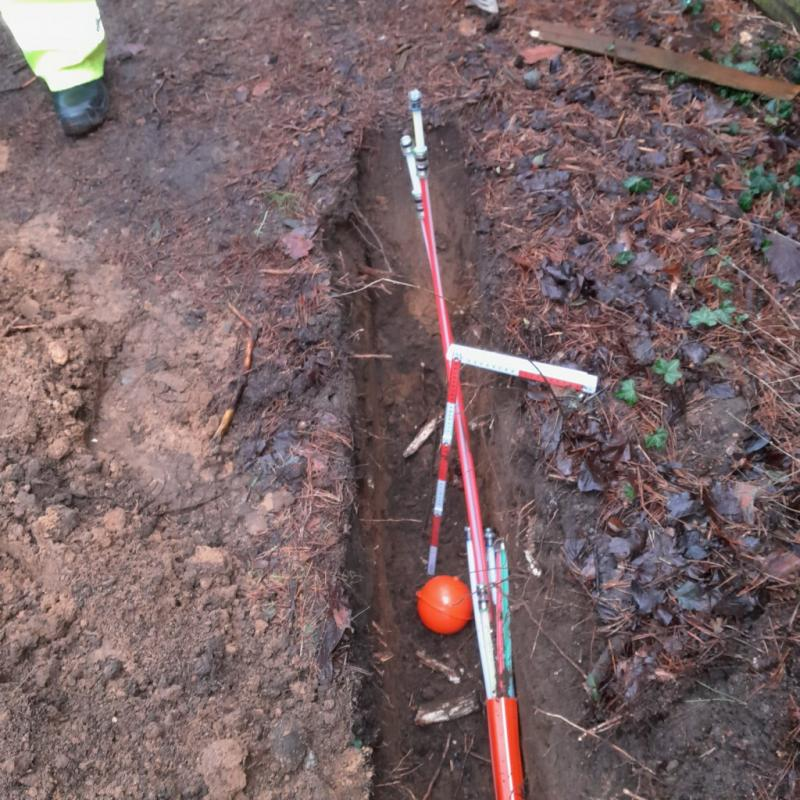Kugelmarker: (414, 576, 472, 634)
Orang-Speednetrohrchen: (464, 523, 524, 800)
